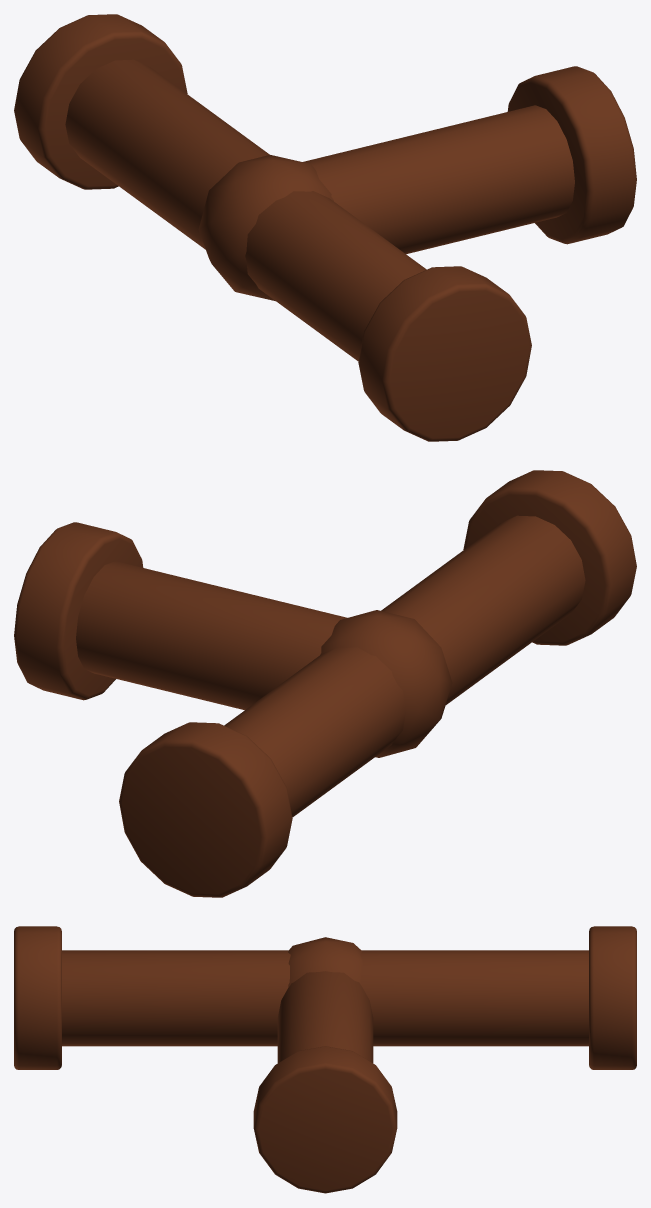
File: BB_PROP_Pipe_Tee.obj
The picture shows the model from 3 angles, top to bottom: view 1: azimuth 30°, elevation 25°; view 2: azimuth 150°, elevation 25°; view 3: azimuth 270°, elevation 25°; orthographic projection. The views are drawn at different scales.
Visible parts, largest first — view 1: BB_PROP_Pipe_Tee; view 2: BB_PROP_Pipe_Tee; view 3: BB_PROP_Pipe_Tee.
Boxes of the visible parts, left/top/right/bottom form: BB_PROP_Pipe_Tee: left=14, top=14, right=636, bottom=441; BB_PROP_Pipe_Tee: left=14, top=470, right=636, bottom=897; BB_PROP_Pipe_Tee: left=14, top=926, right=636, bottom=1193.
Bounding box in the file's own units: 0.8 × 0.3 × 1.3.
